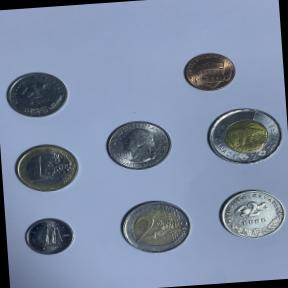coin: (201, 103, 287, 169), (116, 196, 195, 257), (213, 184, 288, 242), (101, 117, 176, 173), (11, 140, 83, 196), (178, 49, 240, 94), (20, 215, 78, 258)
